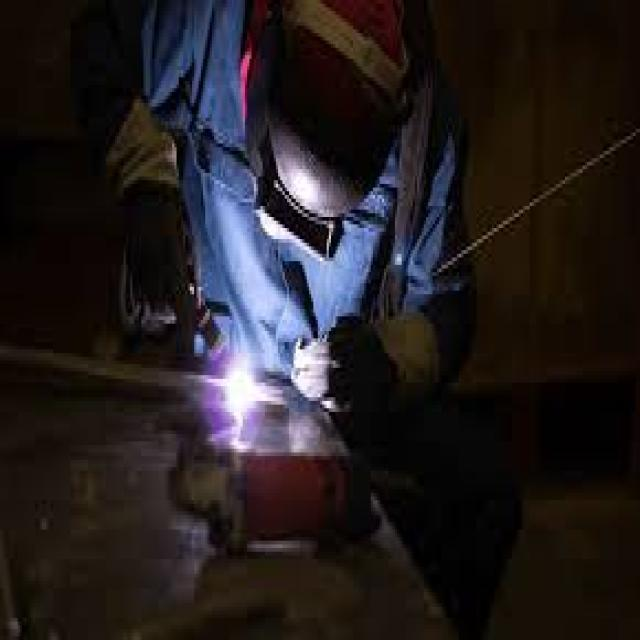welding: (222, 362, 258, 420)
